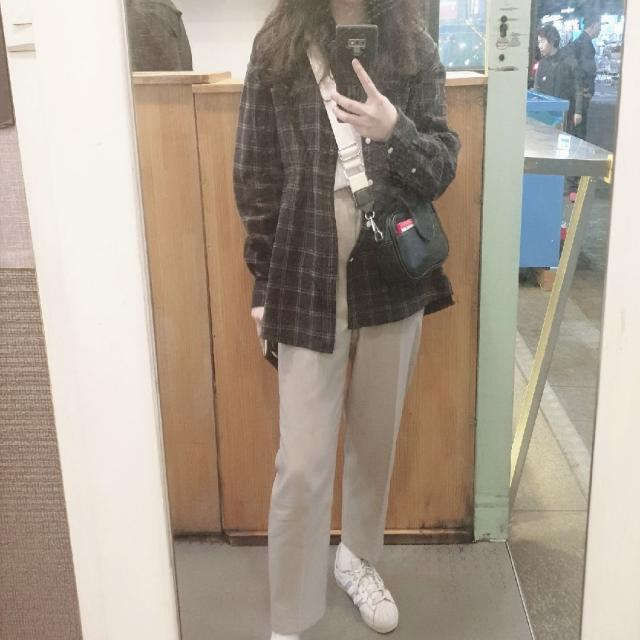shirt: (239, 0, 466, 347)
slacks: (268, 189, 430, 632)
